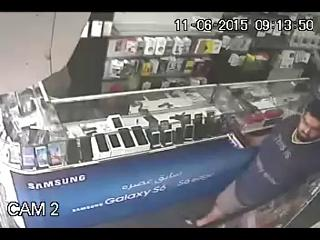shoplifting: (189, 97, 320, 227)
